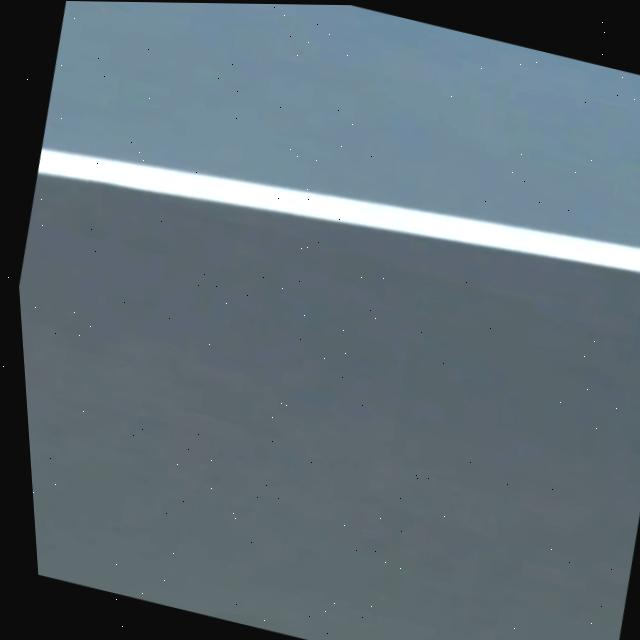left: (37, 146, 640, 271)
